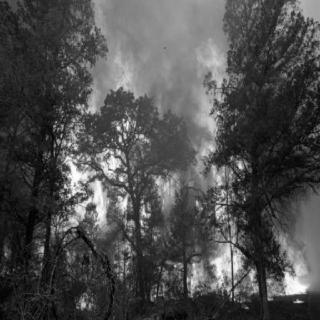Fire: (47, 6, 179, 308), (176, 21, 307, 305)
